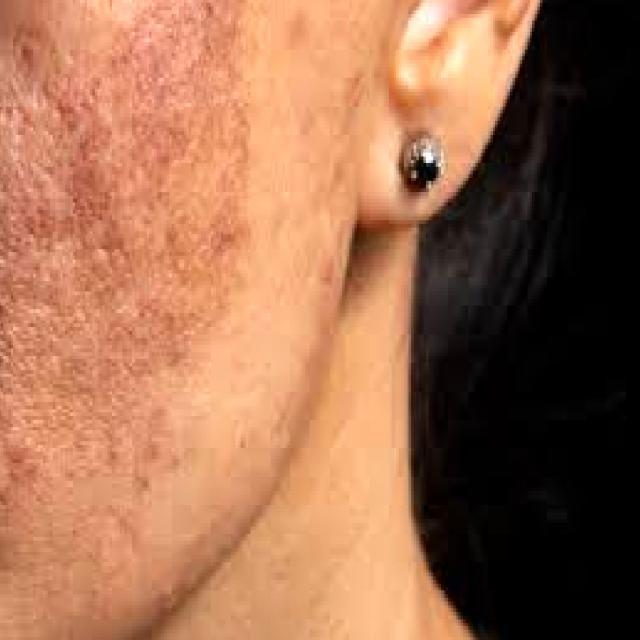Melasma: (5, 7, 270, 548)
